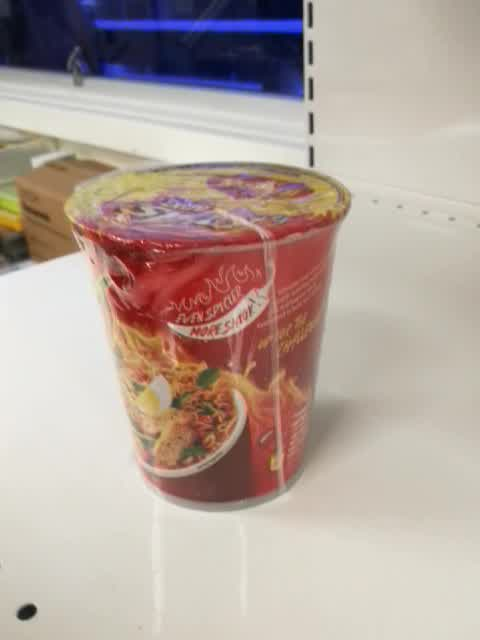maggi: (62, 159, 353, 514)
